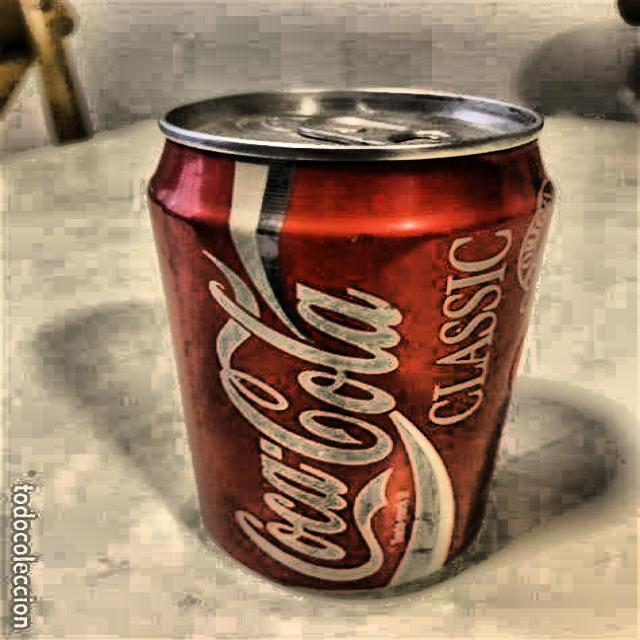Cans: (132, 55, 579, 606)
